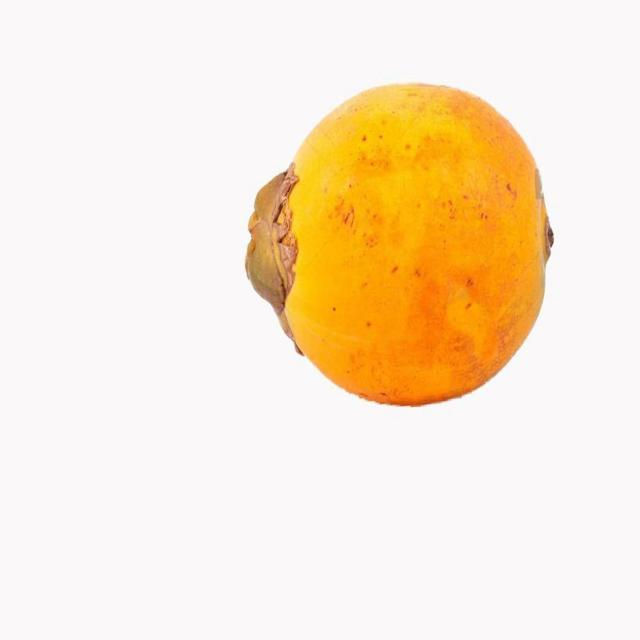good: (245, 83, 554, 409)
